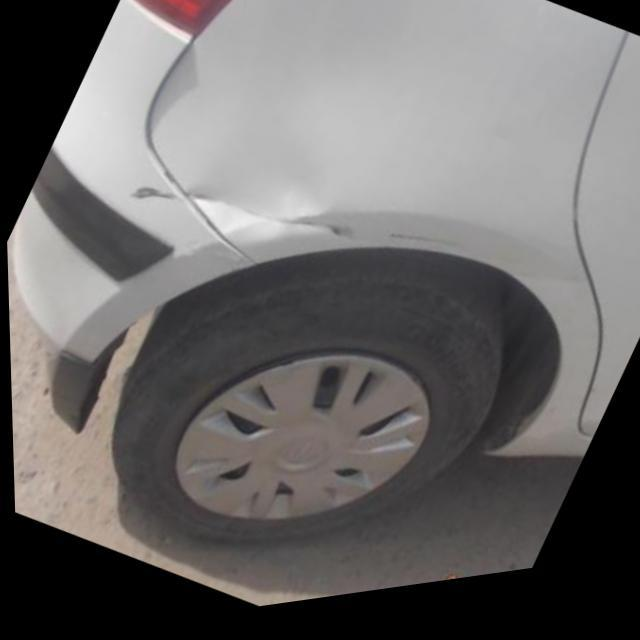scratch: (124, 188, 350, 246), (388, 241, 505, 279)
